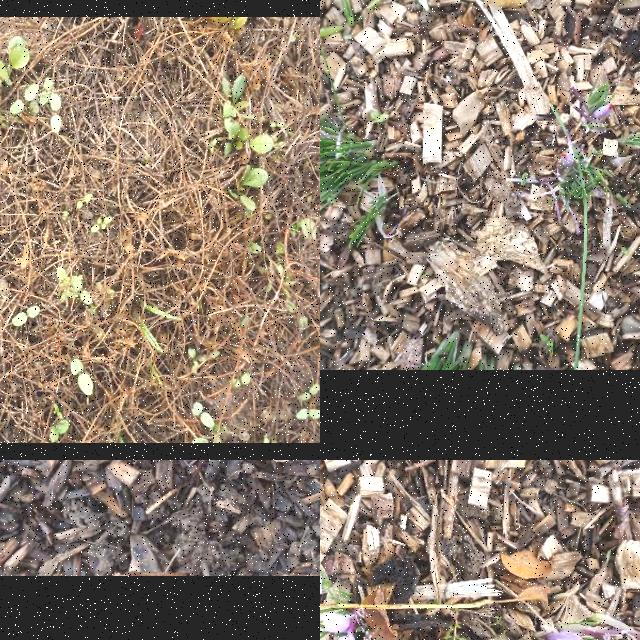flower: (322, 614, 354, 634), (591, 102, 615, 121), (542, 630, 585, 640), (339, 635, 357, 640)
